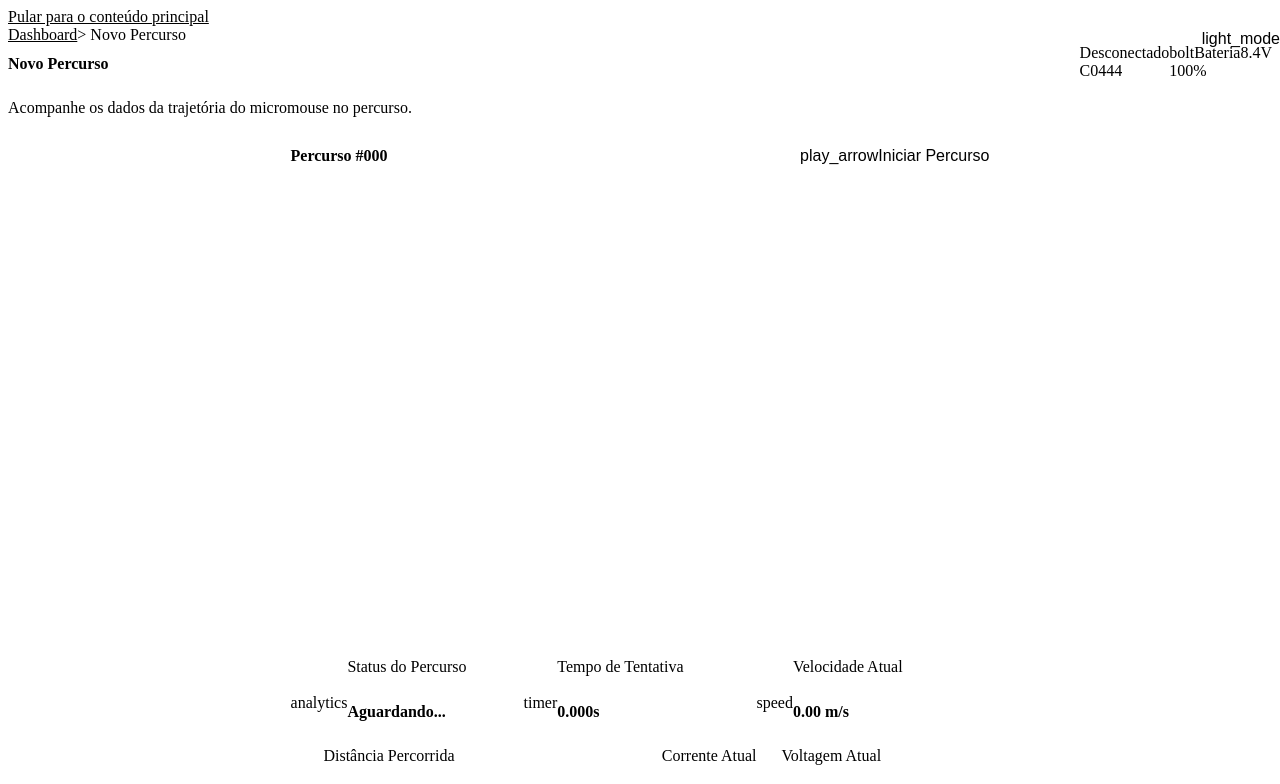
CT2 › deve reiniciar a corrida
Click the button "play_arrow Iniciar Percurso": [895, 156] box [800,147,989,165]
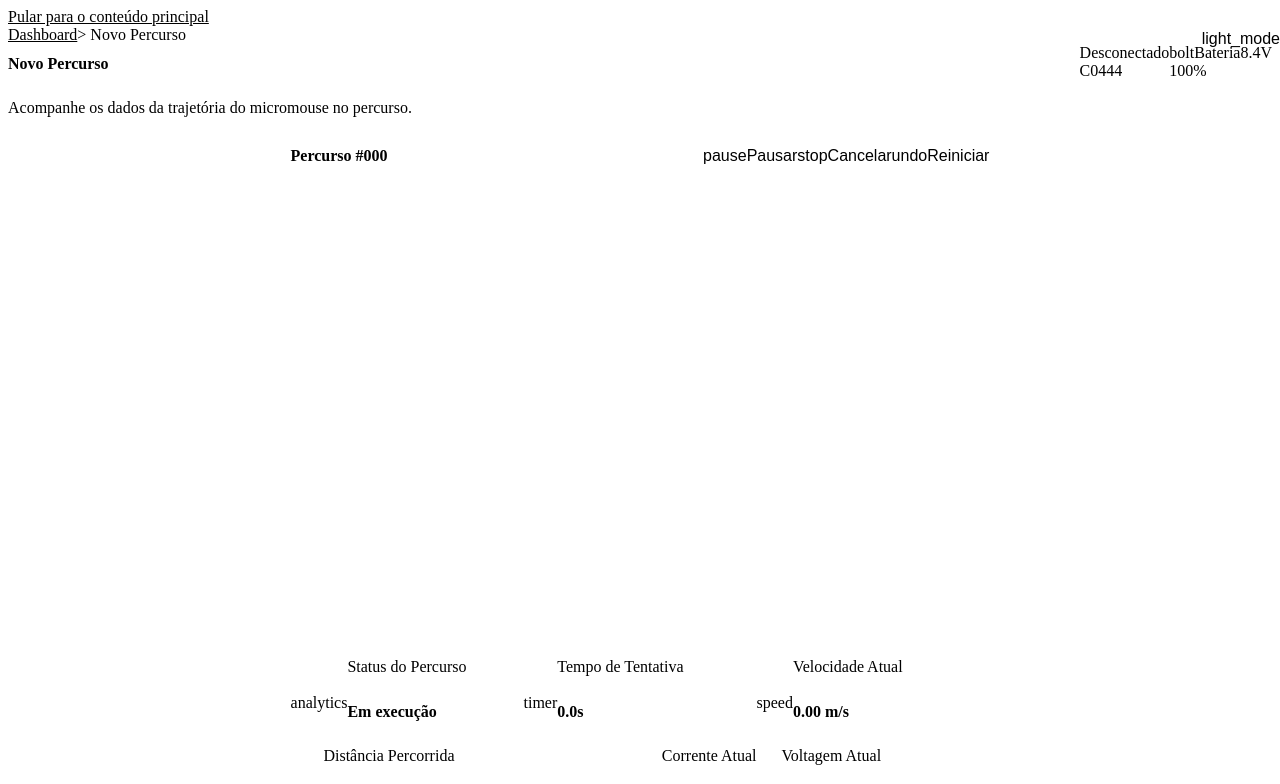
Check: the heading "Em execução" is shown, box [347,703,437,721]
Click the button "undo Reiniciar": [941, 156] box [892,147,990,165]
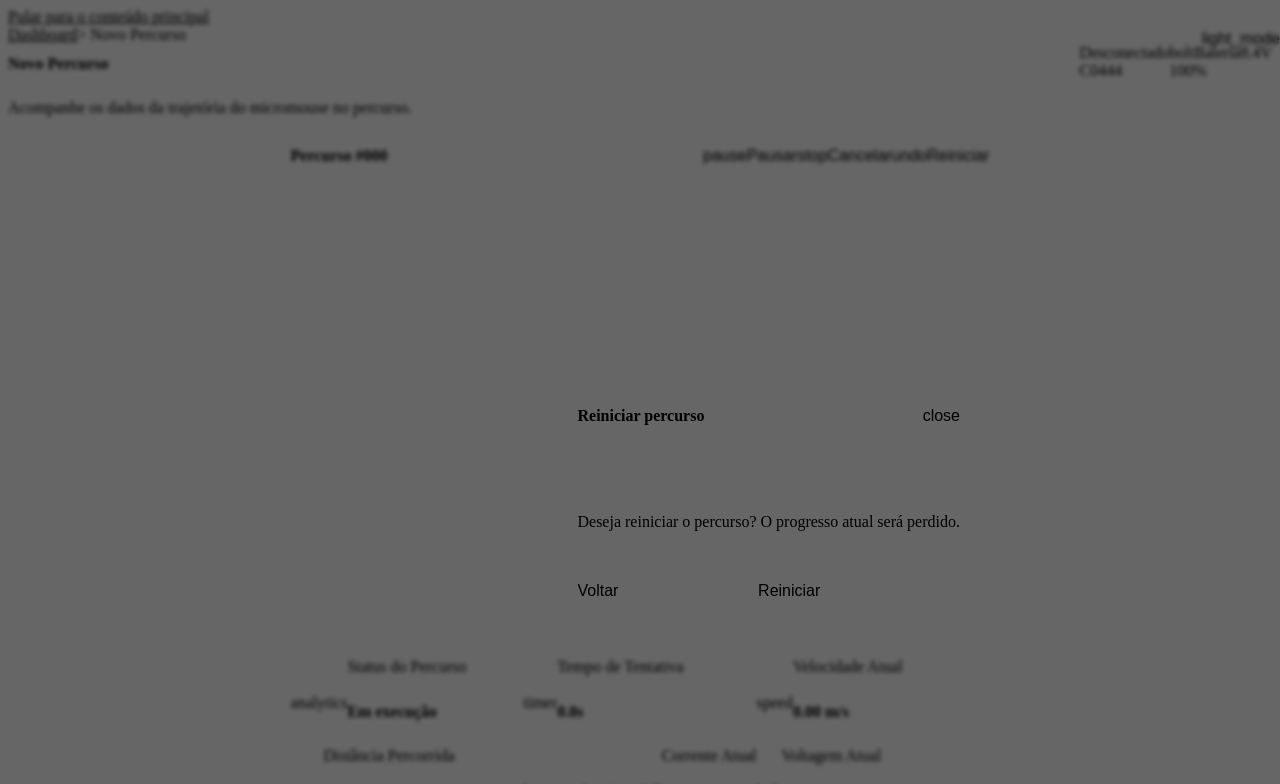
Check: the text "Deseja reiniciar o percurso?" is shown, box [577,513,960,530]
Click the button "Reiniciar": [789, 591] box [618,582,960,600]
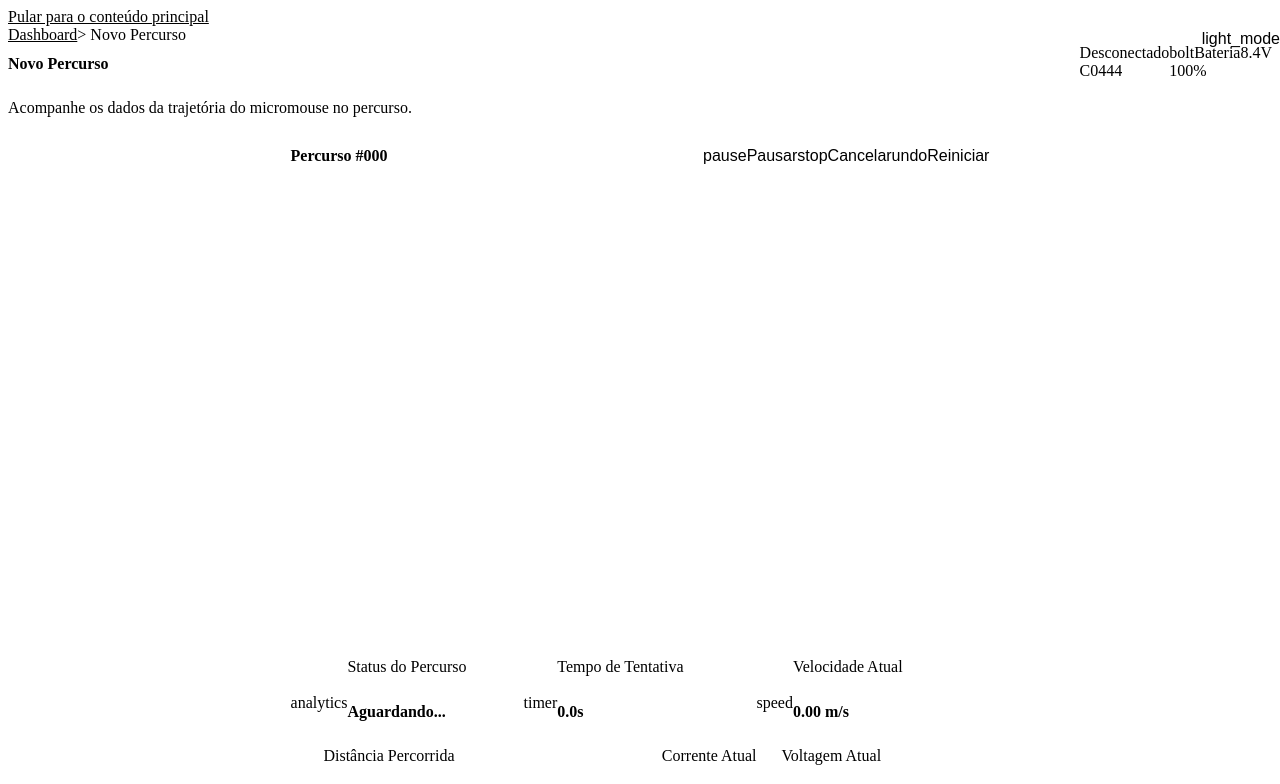
Check: the heading "0.0s" is shown, box [557,703,584,721]
Check: the heading "Aguardando..." is shown, box [347,703,446,721]
